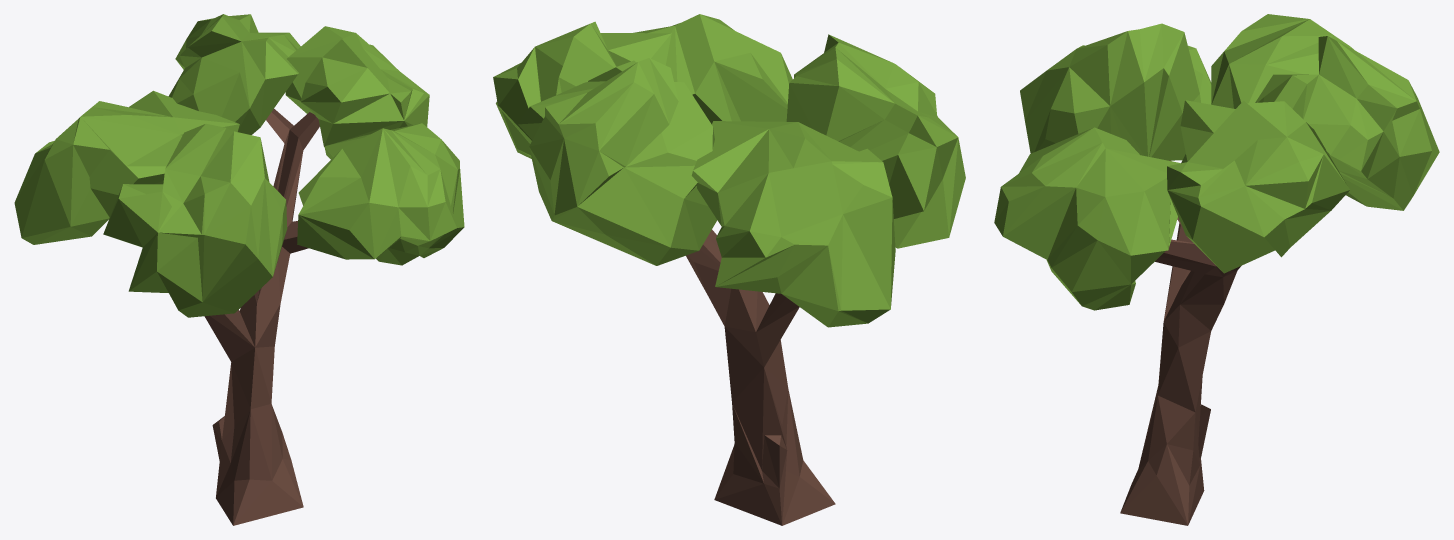
The picture shows the model from 3 angles, left to right: view 1: azimuth 30°, elevation 25°; view 2: azimuth 150°, elevation 25°; view 3: azimuth 270°, elevation 25°; orthographic projection. The views are drawn at different scales.
Parts seen in each view (by area): view 1: node_MeshObject-1085158208-PolyPaper9; view 2: node_MeshObject-1085158208-PolyPaper9; view 3: node_MeshObject-1085158208-PolyPaper9.
Part boxes in pixels (x1,y1,x2,y2): node_MeshObject-1085158208-PolyPaper9: (14,14,464,525); node_MeshObject-1085158208-PolyPaper9: (493,14,965,525); node_MeshObject-1085158208-PolyPaper9: (994,14,1439,525).
Bounding box in the file's own units: 2.19 × 2.46 × 2.03.
